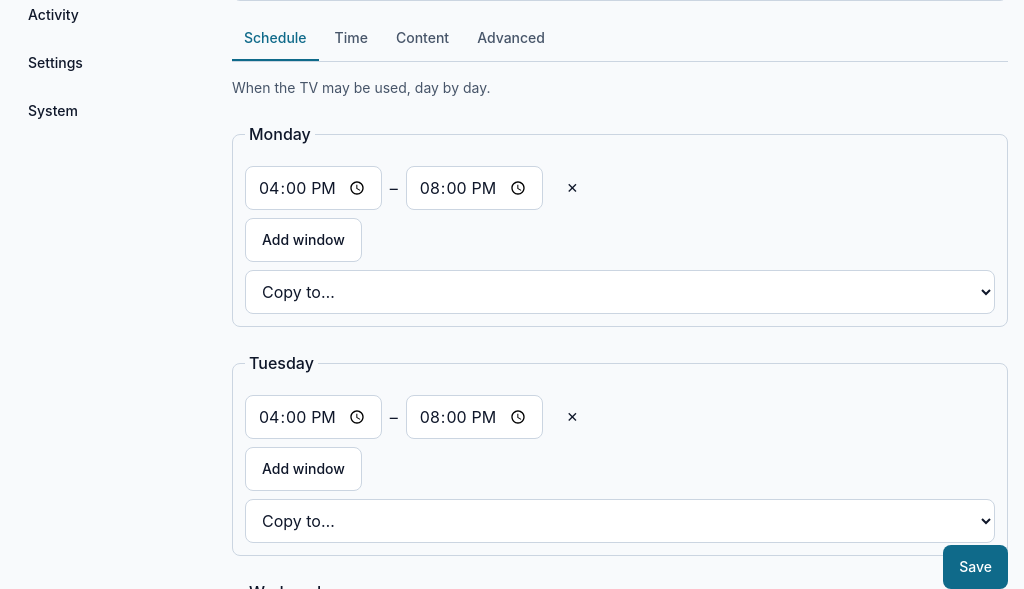
Test: rule editor › removes an app group and a weekday budget
Click the tab "Time". click: (351, 39)
box: [323,17,380,61]
(page scrolled)
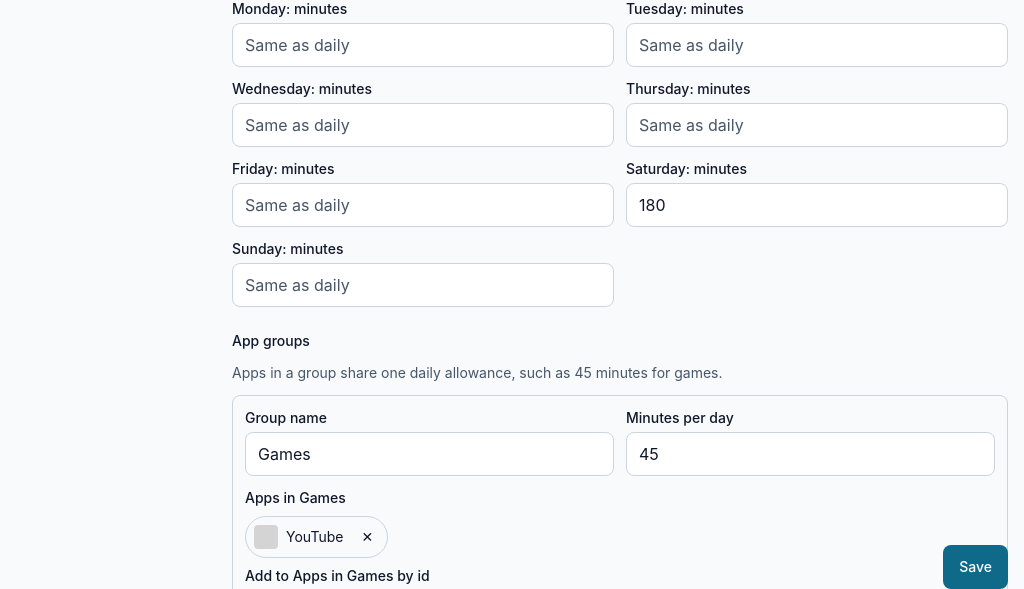
Clear the number field labelled "Saturday: minutes". click: (817, 205)
box: [626,183,1008,227]
(page scrolled)
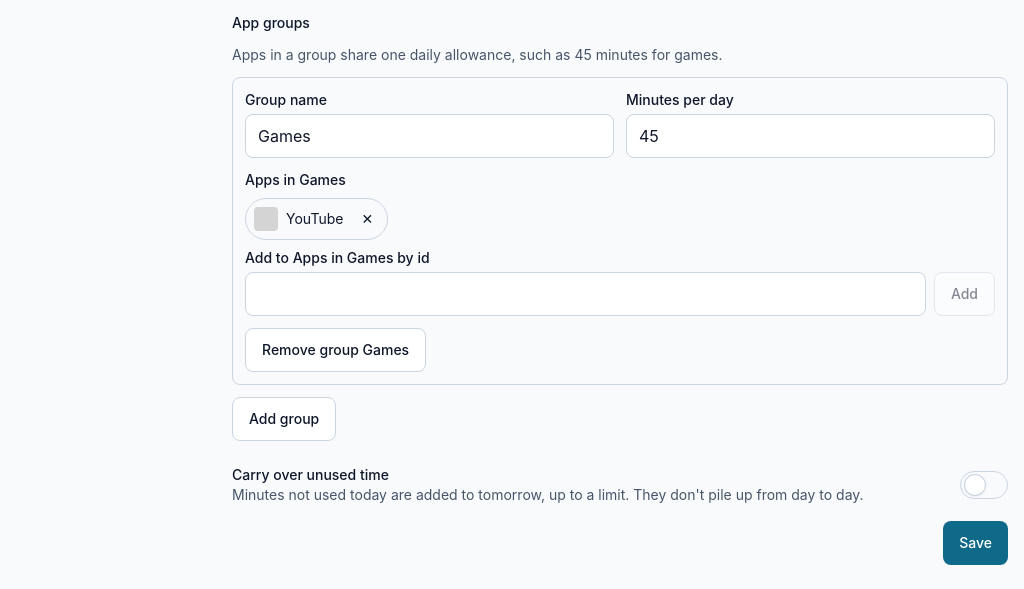
Click the button "Remove group Games". click: (336, 350)
box: [245,328,426,372]
(page scrolled)
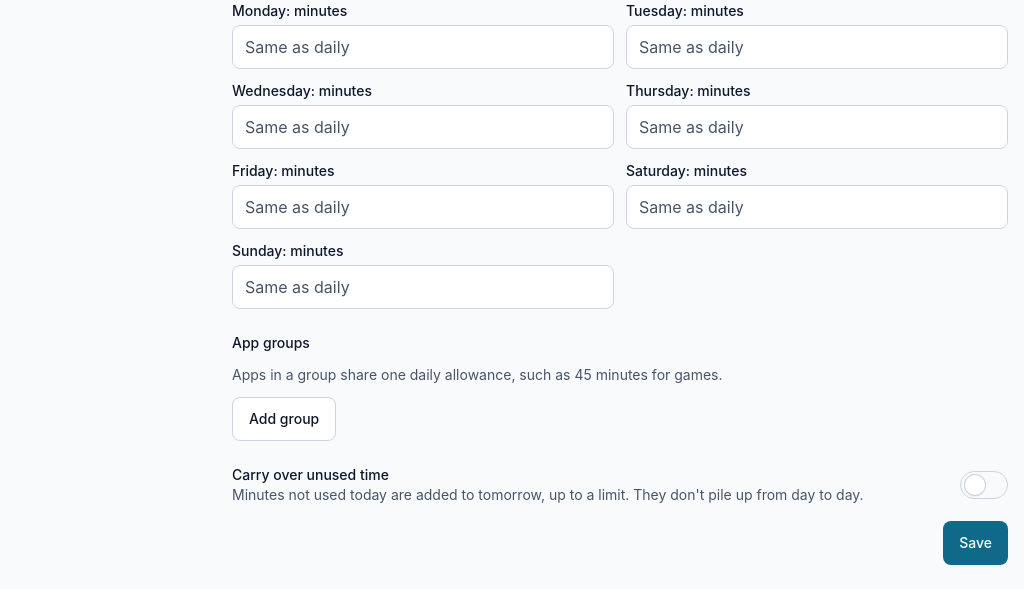
Click the button "Save". click: (976, 543)
box: [943,521,1008,565]
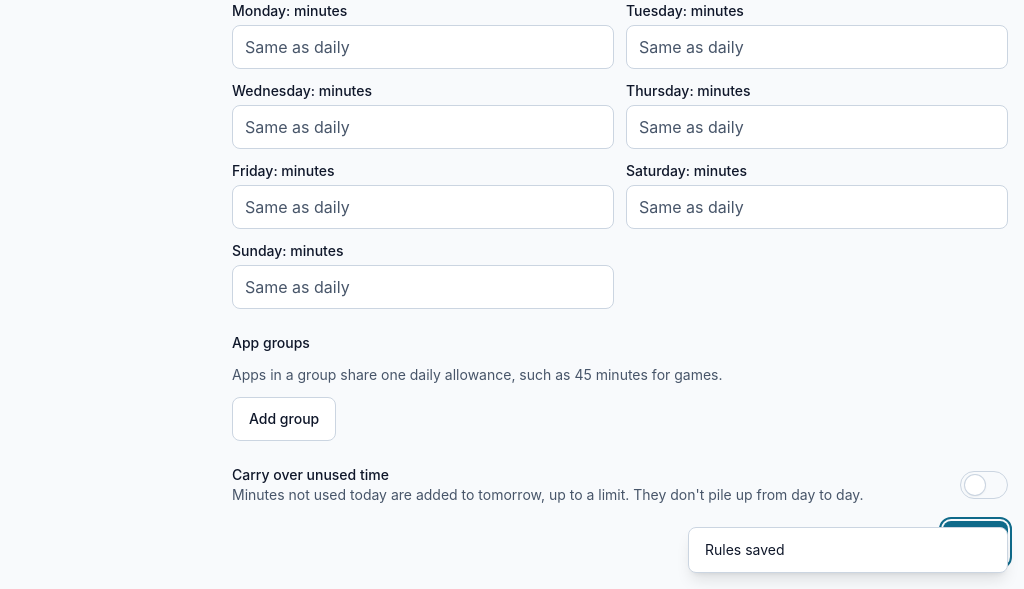
Check: the text "Rules saved" is shown, box [688,527,1008,573]
